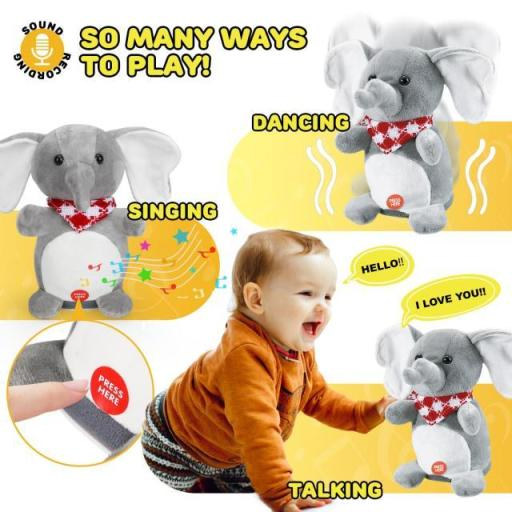baby: (142, 230, 391, 511)
